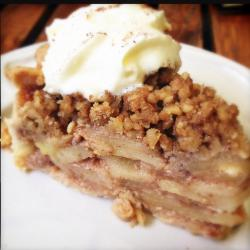apple_pie: (10, 54, 248, 242)
chantilly: (40, 5, 192, 101)
